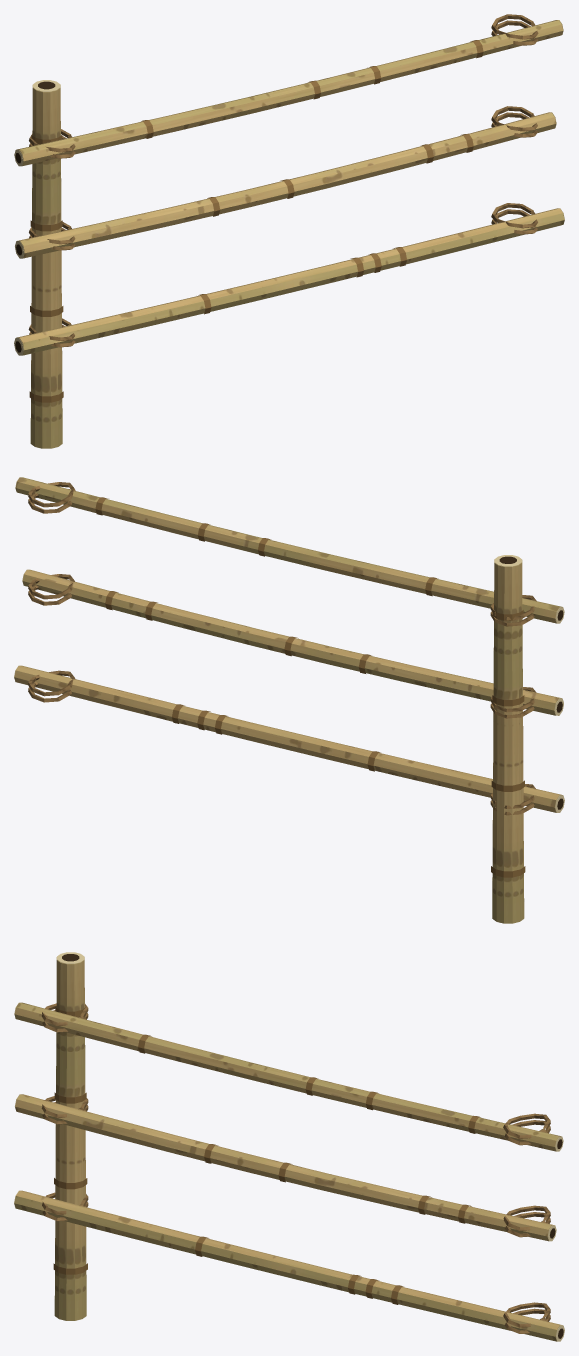
The model's file is fence.glb.
The picture shows the model from 3 angles, top to bottom: view 1: azimuth 30°, elevation 25°; view 2: azimuth 150°, elevation 25°; view 3: azimuth 330°, elevation 25°; orthographic projection.
Parts seen in each view (by area): view 1: FenceRails, FencePost; view 2: FenceRails, FencePost; view 3: FenceRails, FencePost.
Part boxes in pixels (x1,y1,x2,y2): FenceRails: (14, 14, 564, 355); FencePost: (29, 80, 63, 448); FenceRails: (14, 477, 564, 815); FencePost: (491, 555, 525, 923); FenceRails: (14, 1002, 564, 1341); FencePost: (53, 952, 87, 1320).
Bounding box in the file's own units: 2.35 × 1.47 × 0.2123.
5 materials, 2 textured.
